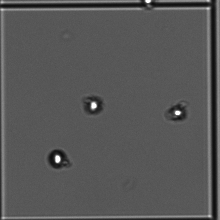Living Cell: (46, 148, 72, 170), (82, 95, 105, 115), (166, 103, 188, 123), (138, 1, 157, 10)
